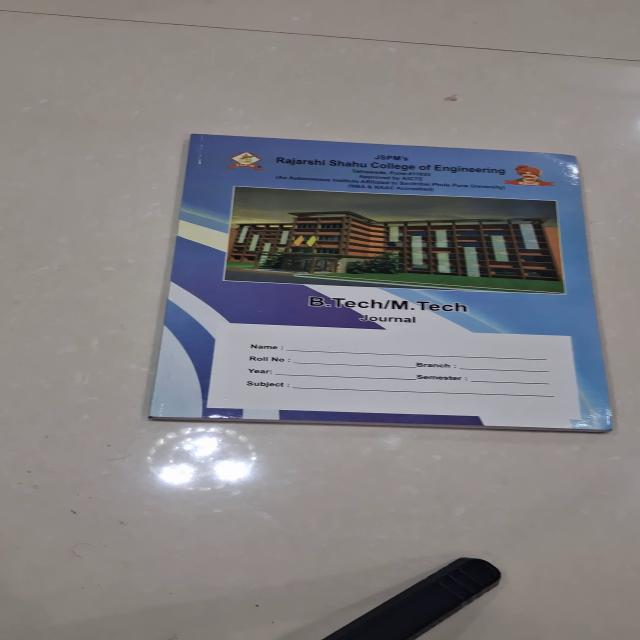paper: (146, 133, 614, 432)
